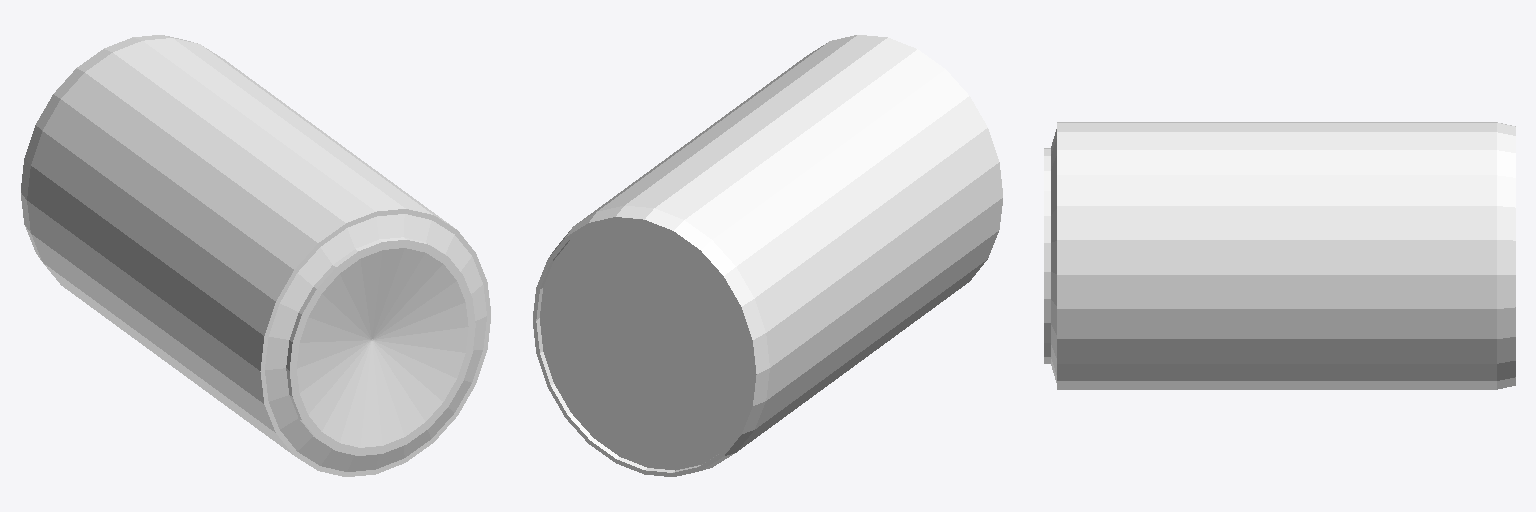
URDF robot description (textured):
<?xml version="1.0" ?>
<robot name="textured">
  <link name="base_link">
    <contact>
      <lateral_friction value="1.0"/>
      <inertia_scaling value="3.0"/>
    </contact>
    <inertial>
      <origin rpy="0 0 0" xyz="-0.01 0 0.02"/>
       <mass value=".1"/>
       <inertia ixx="1" ixy="0" ixz="0" iyy="1" iyz="0" izz="1"/>
    </inertial>
    <visual>
      <origin rpy="0 0 0" xyz="0 0 0"/>
      <geometry>
        <mesh filename="model.obj" scale=".8 .8 .87"/>
      </geometry>
      <material name="white">
        <color rgba="1 1 1 1"/>
      </material>
    </visual>
    <!-- <visual> -->
    <!--   <origin rpy="0 0 0" xyz="0 0 0"/> -->
    <!--   <geometry> -->
    <!--     <cylinder length="0.07" radius="0.06"/> -->
    <!--   </geometry> -->
    <!-- </visual> -->
    <collision>
      <origin rpy="0 0 0" xyz="0 0 0"/>
      <geometry>
        <mesh filename="collision_model/model_vhacd_0_of_18.obj" scale=".8 .8 .87"/>
      </geometry>
    </collision>
    <collision>
      <origin rpy="0 0 0" xyz="0 0 0"/>
      <geometry>
        <mesh filename="collision_model/model_vhacd_1_of_18.obj" scale=".8 .8 .87"/>
      </geometry>
    </collision>
    <collision>
      <origin rpy="0 0 0" xyz="0 0 0"/>
      <geometry>
        <mesh filename="collision_model/model_vhacd_2_of_18.obj" scale=".8 .8 .87"/>
      </geometry>
    </collision>
    <collision>
      <origin rpy="0 0 0" xyz="0 0 0"/>
      <geometry>
        <mesh filename="collision_model/model_vhacd_3_of_18.obj" scale=".8 .8 .87"/>
      </geometry>
    </collision>
    <collision>
      <origin rpy="0 0 0" xyz="0 0 0"/>
      <geometry>
        <mesh filename="collision_model/model_vhacd_4_of_18.obj" scale=".8 .8 .87"/>
      </geometry>
    </collision>
    <collision>
      <origin rpy="0 0 0" xyz="0 0 0"/>
      <geometry>
        <mesh filename="collision_model/model_vhacd_5_of_18.obj" scale=".8 .8 .87"/>
      </geometry>
    </collision>
    <collision>
      <origin rpy="0 0 0" xyz="0 0 0"/>
      <geometry>
        <mesh filename="collision_model/model_vhacd_6_of_18.obj" scale=".8 .8 .87"/>
      </geometry>
    </collision>
    <collision>
      <origin rpy="0 0 0" xyz="0 0 0"/>
      <geometry>
        <mesh filename="collision_model/model_vhacd_7_of_18.obj" scale=".8 .8 .87"/>
      </geometry>
    </collision>
    <collision>
      <origin rpy="0 0 0" xyz="0 0 0"/>
      <geometry>
        <mesh filename="collision_model/model_vhacd_8_of_18.obj" scale=".8 .8 .87"/>
      </geometry>
    </collision>
    <collision>
      <origin rpy="0 0 0" xyz="0 0 0"/>
      <geometry>
        <mesh filename="collision_model/model_vhacd_9_of_18.obj" scale=".8 .8 .87"/>
      </geometry>
    </collision>
    <collision>
      <origin rpy="0 0 0" xyz="0 0 0"/>
      <geometry>
        <mesh filename="collision_model/model_vhacd_10_of_18.obj" scale=".8 .8 .87"/>
      </geometry>
    </collision>
    <collision>
      <origin rpy="0 0 0" xyz="0 0 0"/>
      <geometry>
        <mesh filename="collision_model/model_vhacd_11_of_18.obj" scale=".8 .8 .87"/>
      </geometry>
    </collision>
    <collision>
      <origin rpy="0 0 0" xyz="0 0 0"/>
      <geometry>
        <mesh filename="collision_model/model_vhacd_12_of_18.obj" scale=".8 .8 .87"/>
      </geometry>
    </collision>
    <collision>
      <origin rpy="0 0 0" xyz="0 0 0"/>
      <geometry>
        <mesh filename="collision_model/model_vhacd_13_of_18.obj" scale=".8 .8 .87"/>
      </geometry>
    </collision>
    <collision>
      <origin rpy="0 0 0" xyz="0 0 0"/>
      <geometry>
        <mesh filename="collision_model/model_vhacd_14_of_18.obj" scale=".8 .8 .87"/>
      </geometry>
    </collision>
    <collision>
      <origin rpy="0 0 0" xyz="0 0 0"/>
      <geometry>
        <mesh filename="collision_model/model_vhacd_15_of_18.obj" scale=".8 .8 .87"/>
      </geometry>
    </collision>
    <collision>
      <origin rpy="0 0 0" xyz="0 0 0"/>
      <geometry>
        <mesh filename="collision_model/model_vhacd_16_of_18.obj" scale=".8 .8 .87"/>
      </geometry>
    </collision>
    <collision>
      <origin rpy="0 0 0" xyz="0 0 0"/>
      <geometry>
        <mesh filename="collision_model/model_vhacd_17_of_18.obj" scale=".8 .8 .87"/>
      </geometry>
    </collision>
  </link>
</robot>

--- Render facts (derived) ---
The picture shows the robot from 3 angles, left to right: view 1: azimuth 30°, elevation 25°; view 2: azimuth 150°, elevation 25°; view 3: azimuth 270°, elevation 25°; orthographic projection.
Model textured with 1 links and 0 joints (none), rooted at base_link, posed every joint at zero.
Links seen in each view (by area): view 1: base_link; view 2: base_link; view 3: base_link.
Boxes of the visible links, x1,y1,x2,y2 form: base_link: (21,35,490,476); base_link: (533,35,1002,476); base_link: (1044,122,1515,389).
Size in the robot's own frame: 0.3406 by 0.6387 by 0.3704 metres.
1 mesh visuals loaded from 1 distinct referenced files (1 OBJ).